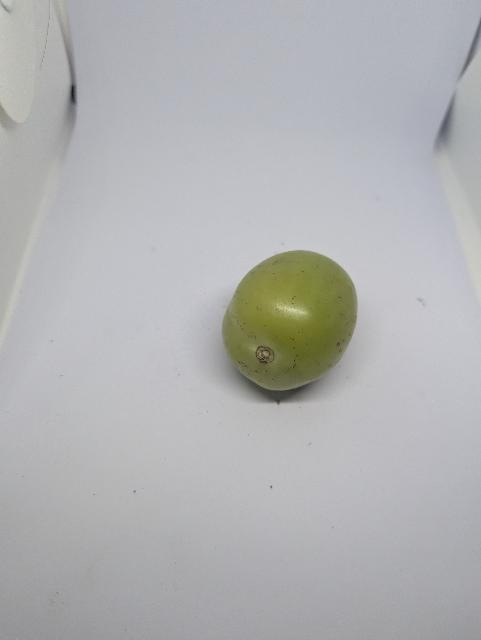green: (219, 247, 364, 393)
